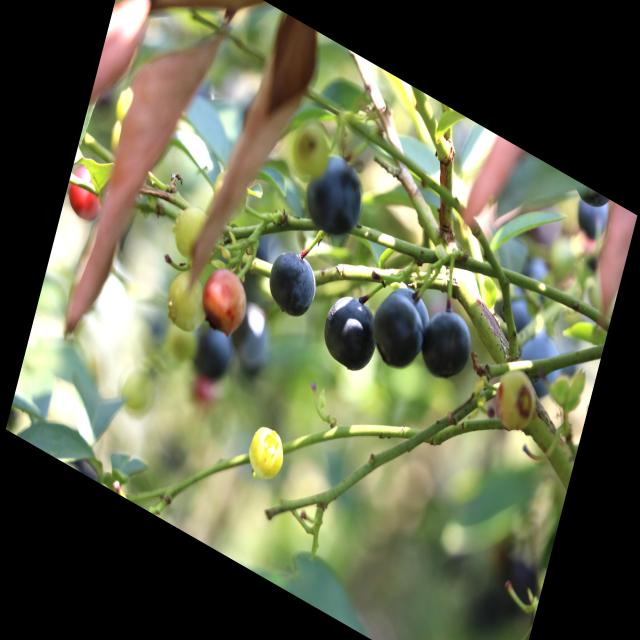blueberry: (310, 276, 388, 388), (295, 143, 371, 253), (367, 274, 435, 384), (262, 235, 328, 336), (506, 306, 573, 403), (416, 297, 479, 393), (224, 293, 282, 384), (482, 535, 544, 620), (562, 180, 616, 255), (487, 276, 539, 342), (190, 315, 237, 383)
blueberry-halfripe: (197, 254, 250, 334), (62, 156, 110, 230)
blueberry-unripe: (490, 360, 540, 438), (164, 265, 212, 340), (166, 195, 213, 268), (245, 420, 289, 486)
